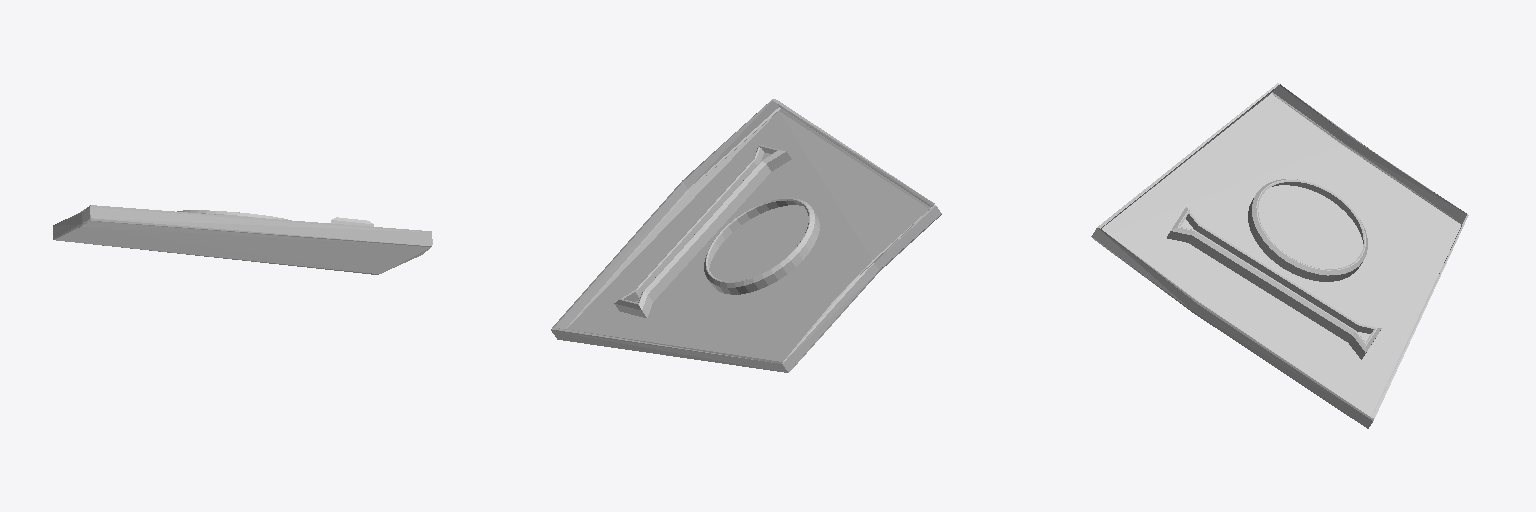
Rendered from origin_3.obj.
3 renders of one model, left to right at view 1: azimuth 30°, elevation 25°; view 2: azimuth 150°, elevation 25°; view 3: azimuth 270°, elevation 25°, orthographic.
Parts seen in each view (by area): view 1: Default; view 2: Default; view 3: Default.
Part boxes in pixels (x1,y1,x2,y2): Default: (53, 205, 432, 274); Default: (551, 99, 941, 372); Default: (1091, 83, 1468, 428).
Size of the model in its own units: 0.1988 by 0.1029 by 0.1911.